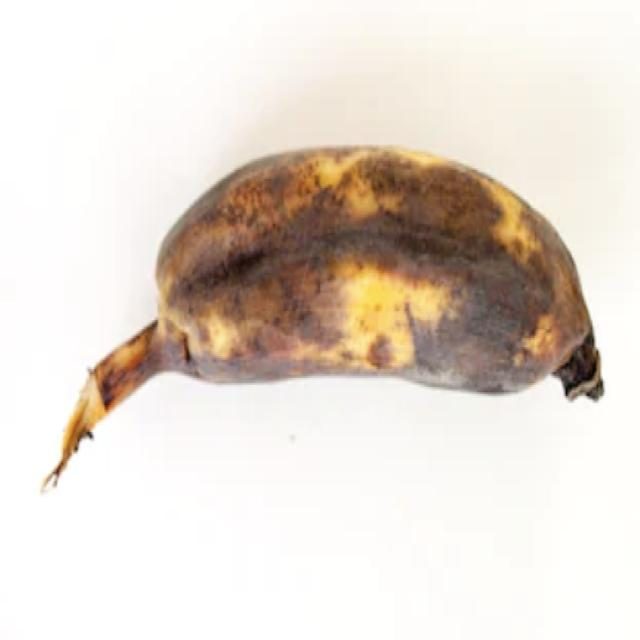Rotten: (51, 115, 616, 518)
